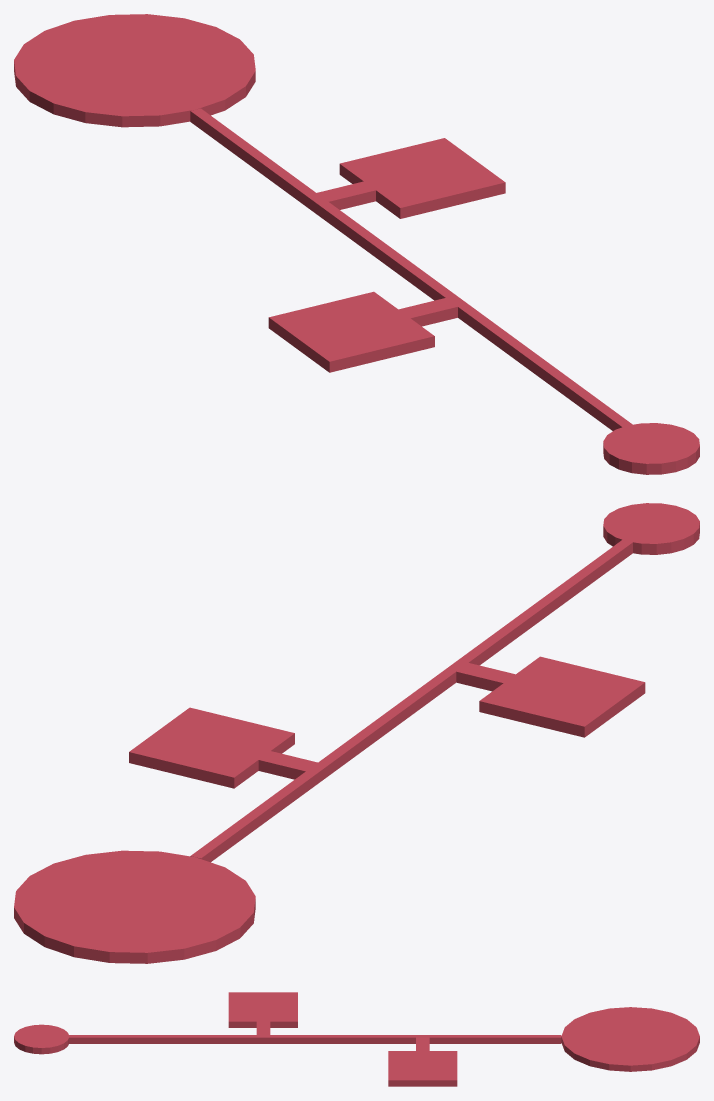
Rendered from floor.glb.
3 renders of one model, top to bottom at view 1: azimuth 30°, elevation 25°; view 2: azimuth 150°, elevation 25°; view 3: azimuth 270°, elevation 25°, orthographic. The views are drawn at different scales.
Visible parts, largest first — view 1: Mesh_Mesh_head_geo.001_lambert2SG.001; view 2: Mesh_Mesh_head_geo.001_lambert2SG.001; view 3: Mesh_Mesh_head_geo.001_lambert2SG.001.
Part boxes in pixels (left/top/right/bottom): Mesh_Mesh_head_geo.001_lambert2SG.001: left=14, top=14, right=699, bottom=474; Mesh_Mesh_head_geo.001_lambert2SG.001: left=14, top=503, right=699, bottom=963; Mesh_Mesh_head_geo.001_lambert2SG.001: left=14, top=992, right=699, bottom=1086.
Size of the model in its own units: 30 by 0.998 by 99.
